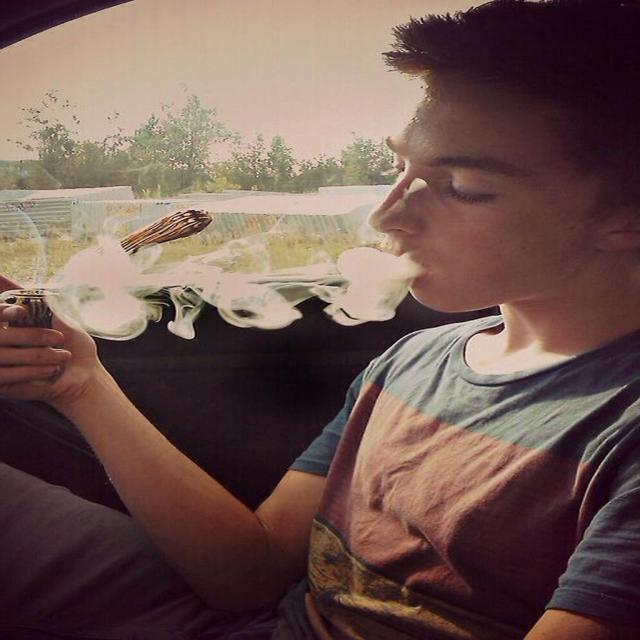smoking: (0, 151, 510, 373)
